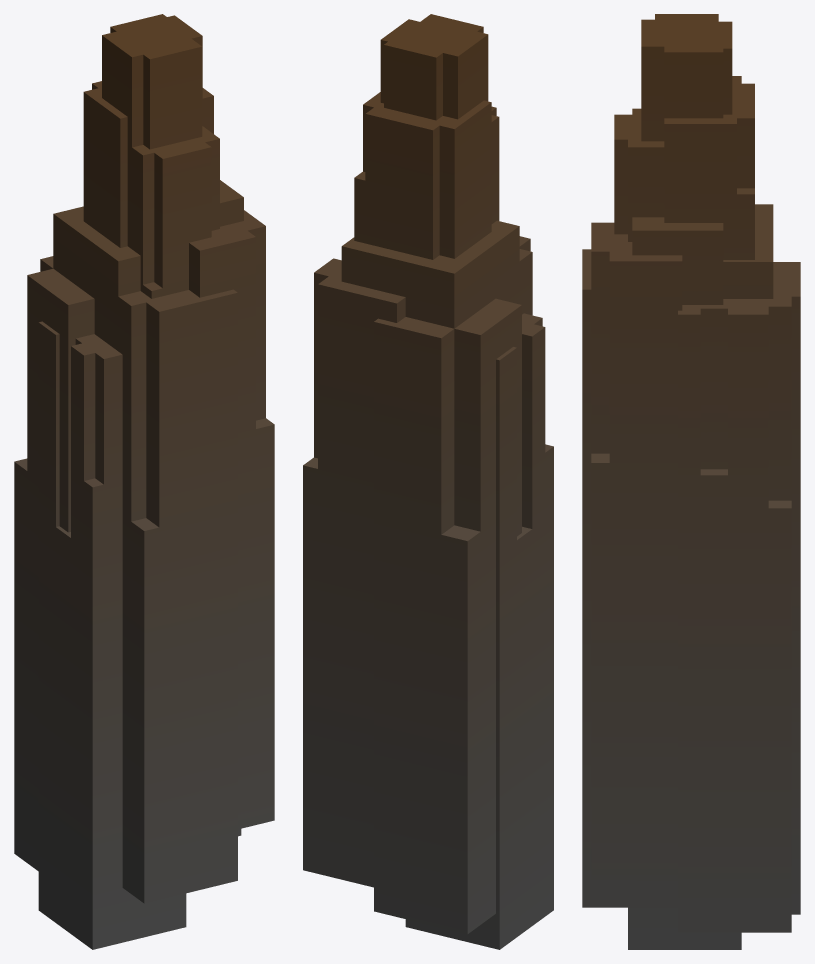
Rendered from Rock_2.fbx.
3 renders of one model, left to right at view 1: azimuth 30°, elevation 25°; view 2: azimuth 150°, elevation 25°; view 3: azimuth 270°, elevation 25°, orthographic. The views are drawn at different scales.
Parts seen in each view (by area): view 1: Rock_2; view 2: Rock_2; view 3: Rock_2.
Part boxes in pixels (<box>): Rock_2: <box>14,14,274,949</box>; Rock_2: <box>303,14,553,949</box>; Rock_2: <box>582,14,800,949</box>.
Size of the model in its own units: 46 by 222 by 48.
1 material, 1 textured.
